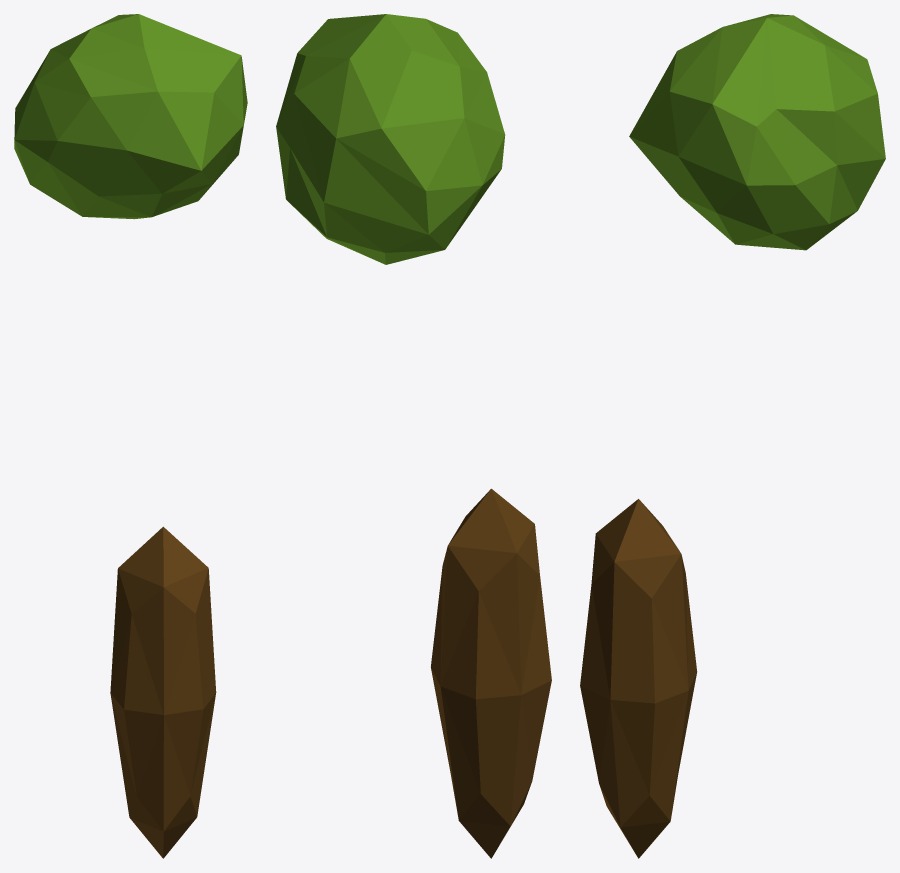
The model's file is tree8.dae.
3 renders of one model, left to right at view 1: azimuth 30°, elevation 25°; view 2: azimuth 150°, elevation 25°; view 3: azimuth 270°, elevation 25°, orthographic. The views are drawn at different scales.
Visible parts, largest first — view 1: Icosphere_059, Cube_009; view 2: Icosphere_059, Cube_009; view 3: Icosphere_059, Cube_009.
Boxes of the visible parts, left/top/right/bottom form: Icosphere_059: left=14, top=14, right=247, bottom=219; Cube_009: left=110, top=526, right=216, bottom=858; Icosphere_059: left=276, top=14, right=505, bottom=264; Cube_009: left=431, top=488, right=551, bottom=858; Icosphere_059: left=629, top=14, right=885, bottom=250; Cube_009: left=580, top=499, right=697, bottom=858.
Bounding box in the file's own units: 0.8492 × 1.01 × 3.14.
